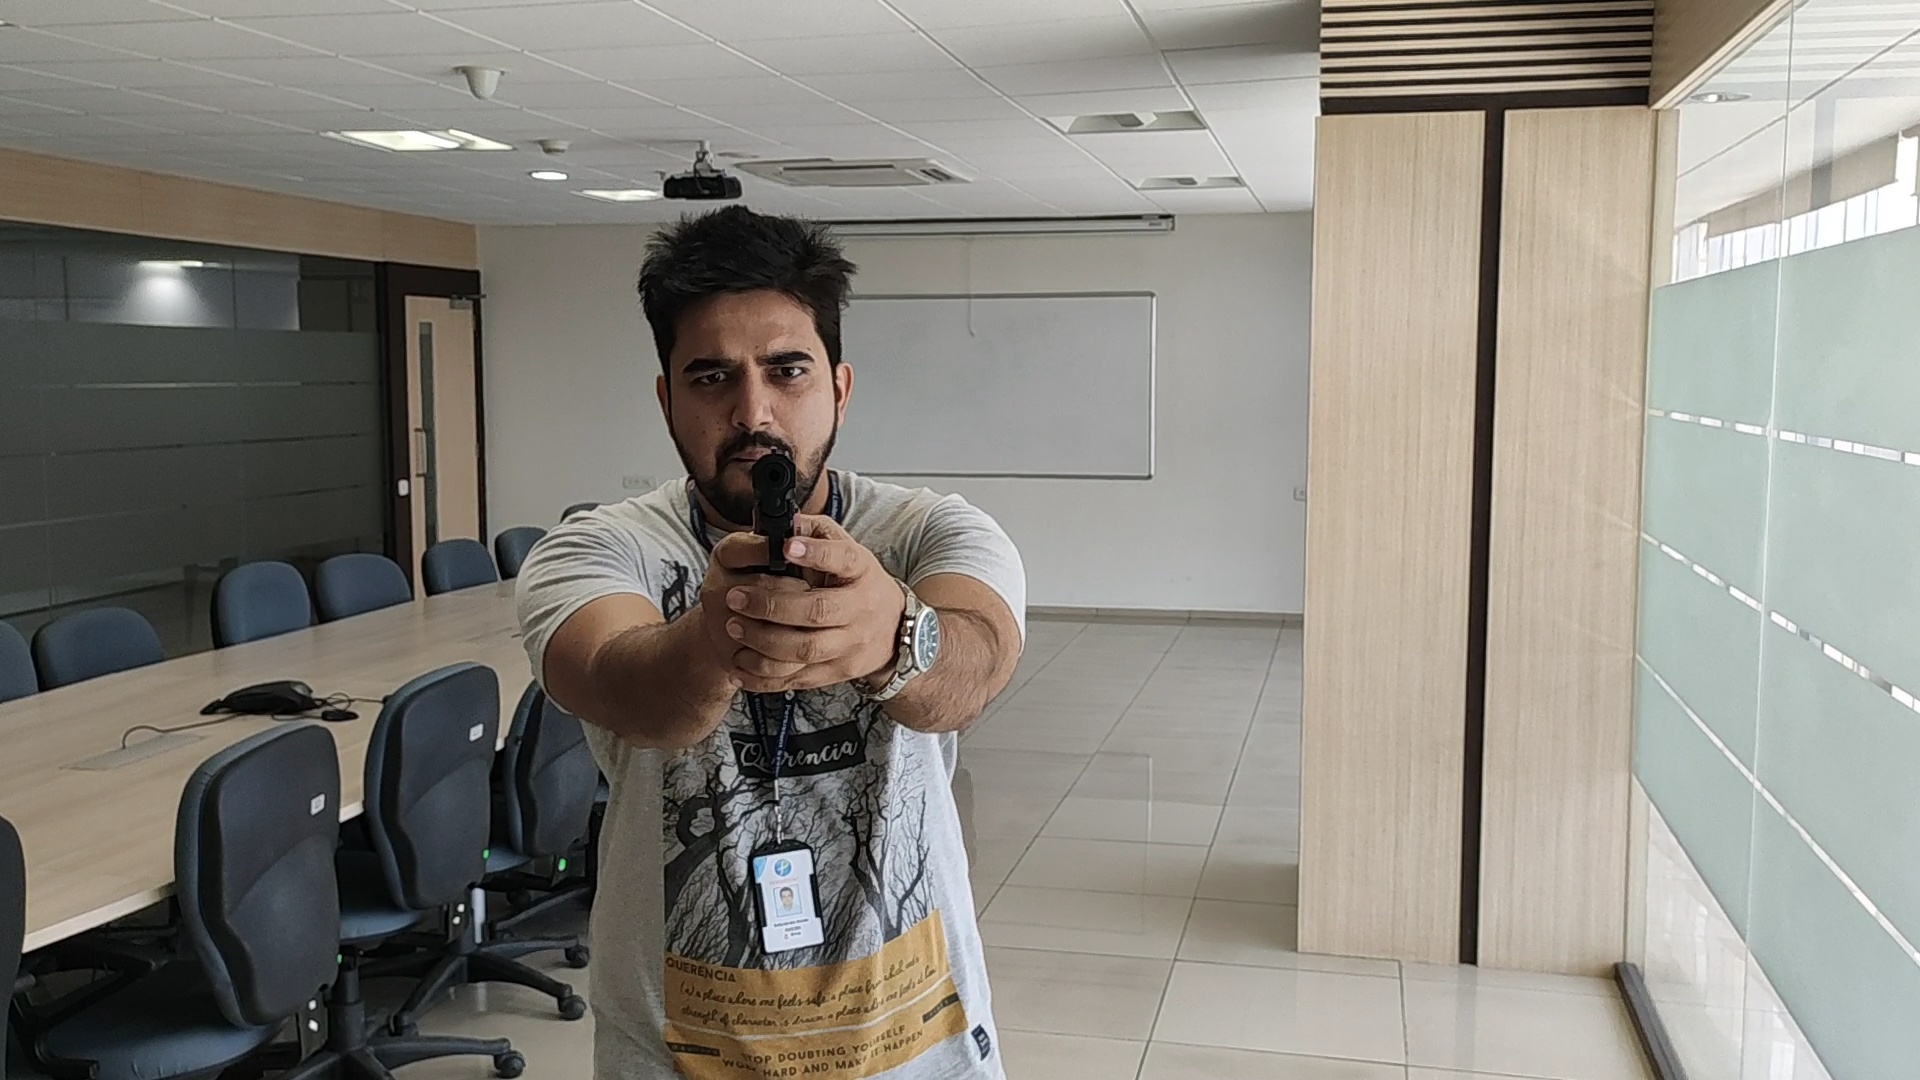gun: (752, 447, 796, 534)
